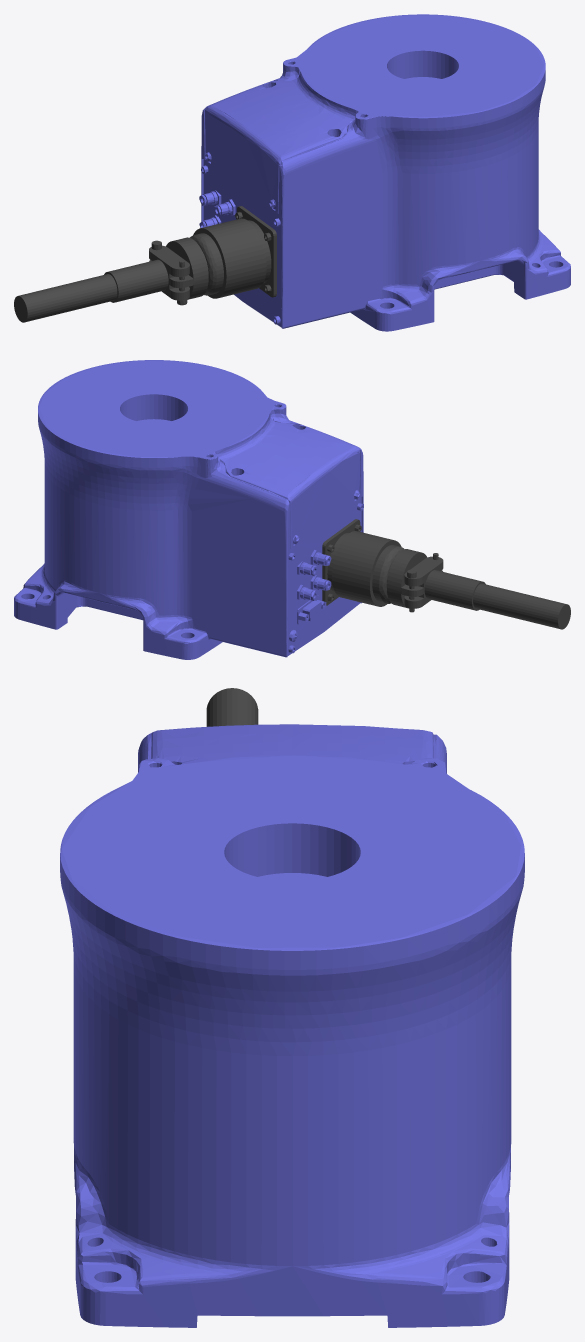
3 views of the same model, one above another, from view 1: azimuth 30°, elevation 25°; view 2: azimuth 150°, elevation 25°; view 3: azimuth 270°, elevation 25° (orthographic). The views are drawn at different scales.
Parts seen in each view (by area): view 1: Link0; view 2: Link0; view 3: Link0.
Boxes of the visible parts, x1,y1,x2,y2 form: Link0: [14, 14, 570, 331]; Link0: [14, 360, 570, 659]; Link0: [60, 688, 524, 1327].
Size of the model in its own units: 41.9 by 17 by 15.5.
